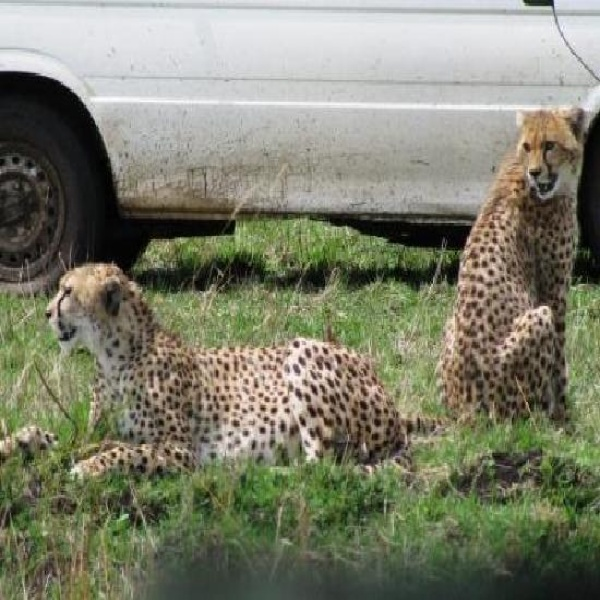Cheetah: (16, 258, 417, 492), (439, 104, 587, 427)
